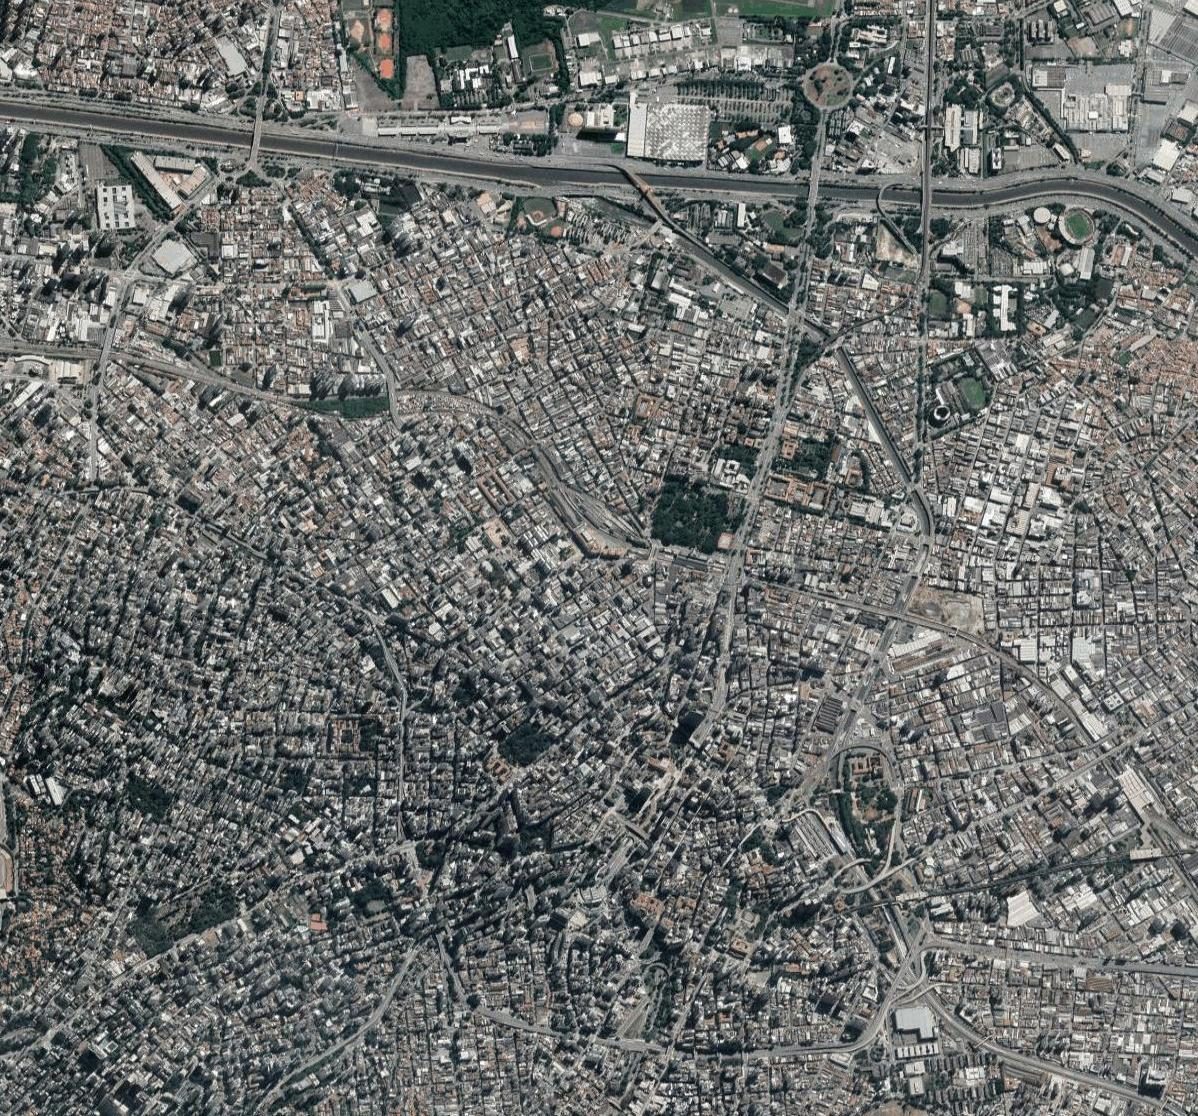bridge: (248, 119, 268, 157), (805, 174, 822, 205), (919, 180, 936, 211)
train_station: (570, 488, 628, 545)
